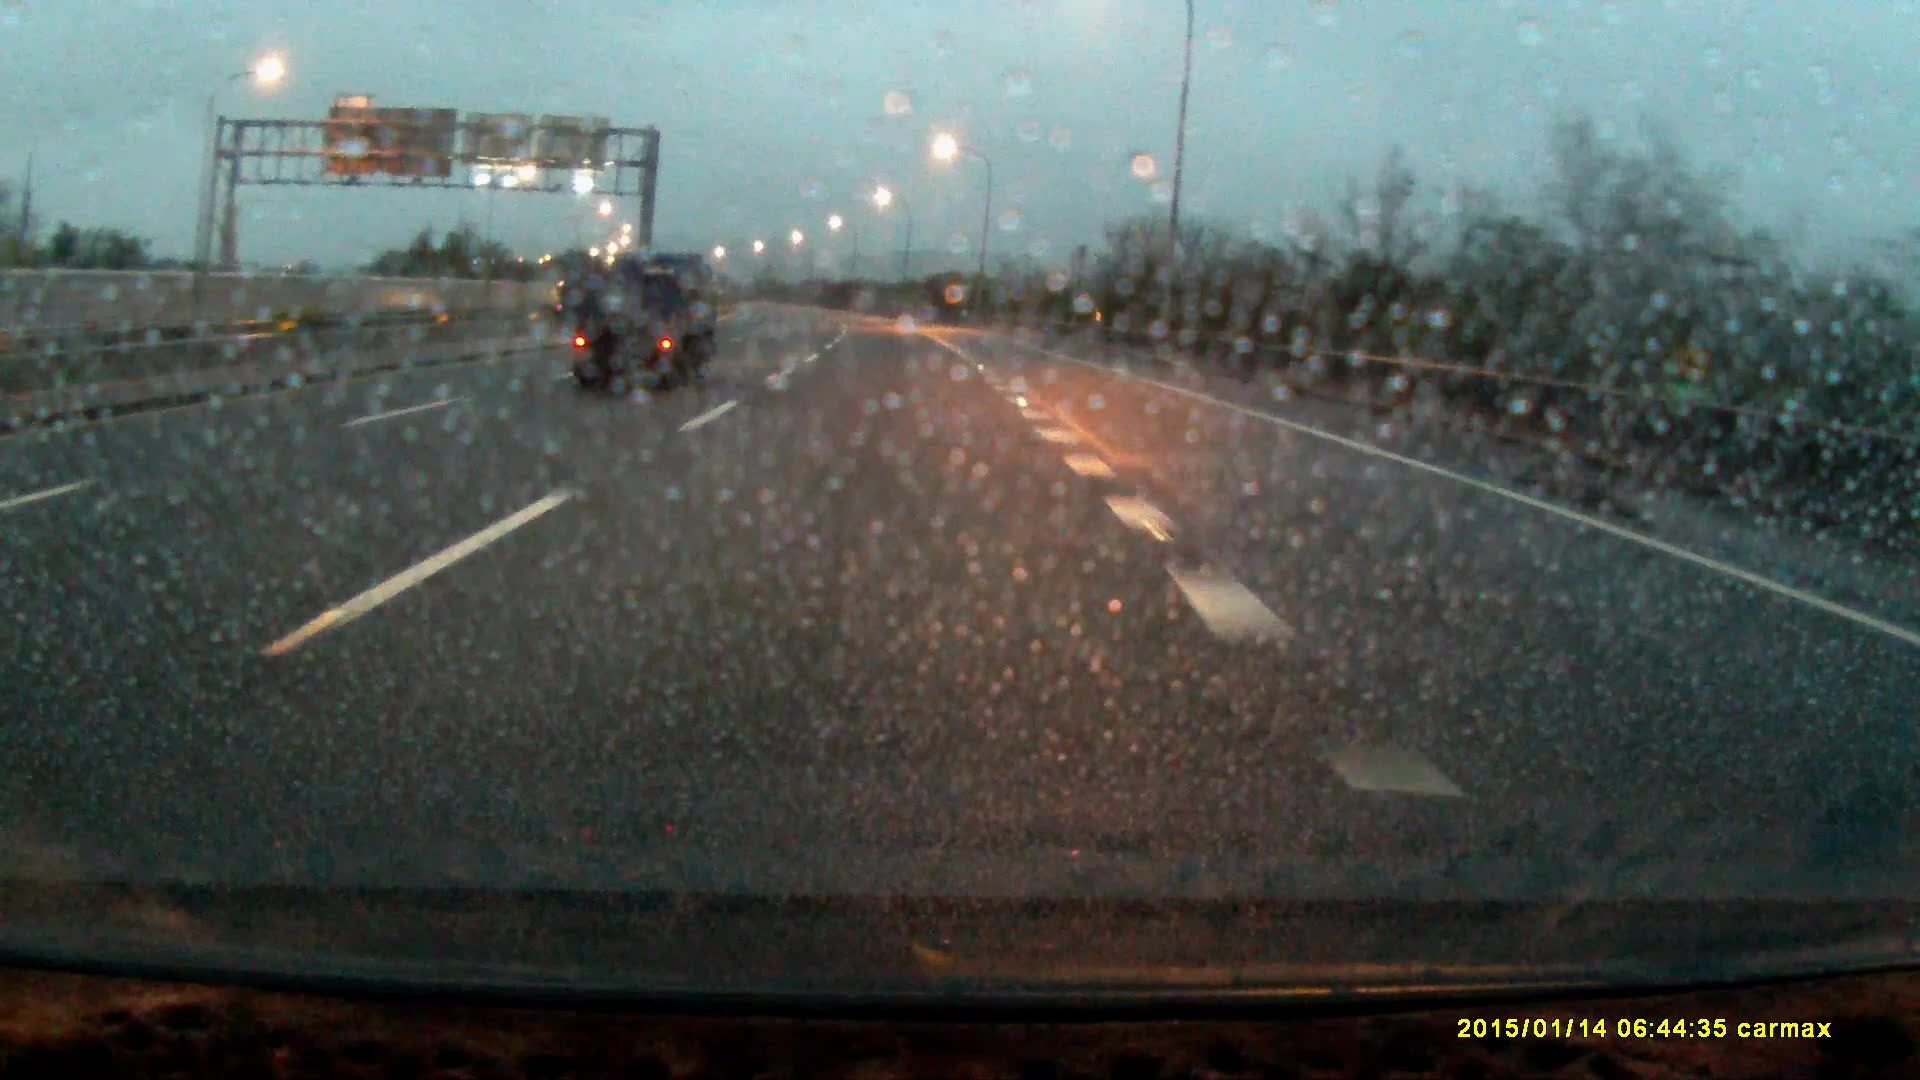vehicle: (564, 253, 721, 389)
